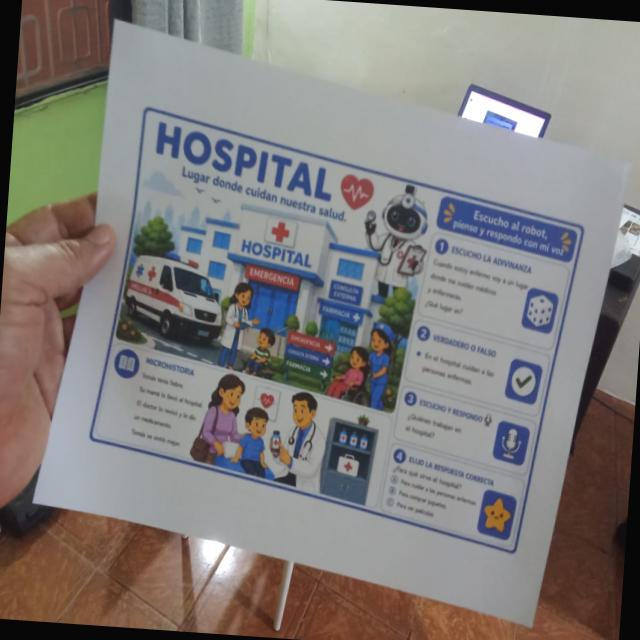hospital: (79, 100, 594, 562)
